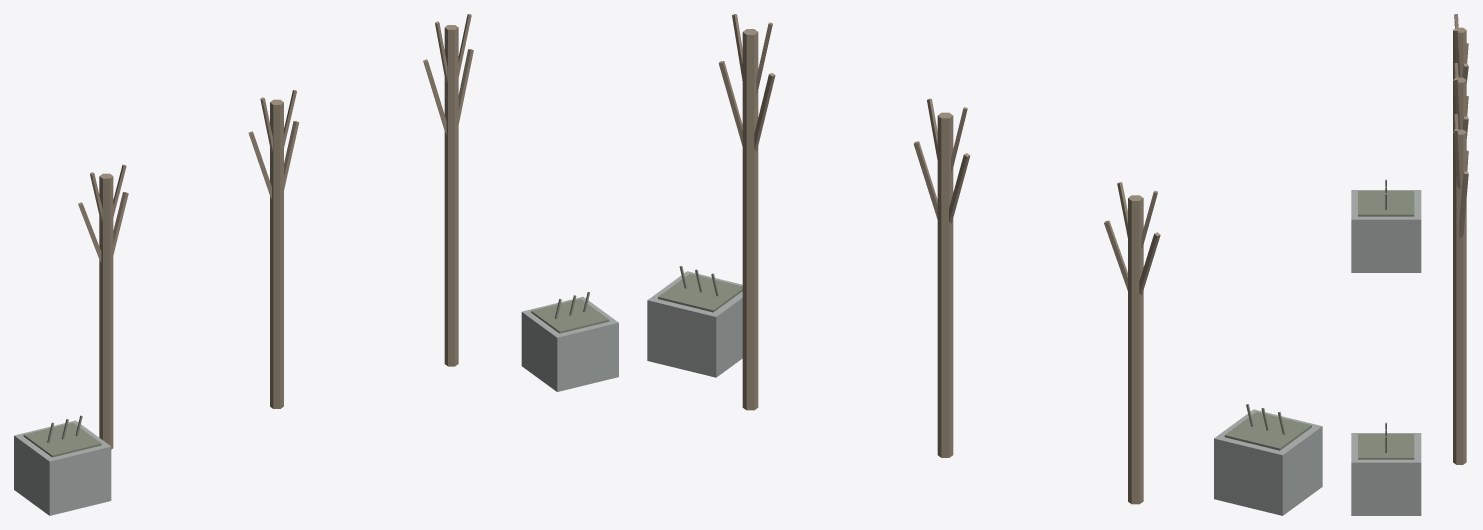
The model's file is planting.glb.
3 views of the same model, side by side, from view 1: azimuth 30°, elevation 25°; view 2: azimuth 150°, elevation 25°; view 3: azimuth 270°, elevation 25° (orthographic). The views are drawn at different scales.
Visible parts, largest first — view 1: Sanatorium_Planting_Sanatorium_Dull_Wood, Sanatorium_Planting_Sanatorium_Weathered_Concrete, Sanatorium_Planting_Sanatorium_Dry_Planting; view 2: Sanatorium_Planting_Sanatorium_Dull_Wood, Sanatorium_Planting_Sanatorium_Weathered_Concrete, Sanatorium_Planting_Sanatorium_Dry_Planting; view 3: Sanatorium_Planting_Sanatorium_Weathered_Concrete, Sanatorium_Planting_Sanatorium_Dull_Wood, Sanatorium_Planting_Sanatorium_Dry_Planting.
Part boxes in pixels (x1,y1,x2,y2): Sanatorium_Planting_Sanatorium_Dull_Wood: (78, 14, 473, 449); Sanatorium_Planting_Sanatorium_Weathered_Concrete: (14, 296, 618, 515); Sanatorium_Planting_Sanatorium_Dry_Planting: (23, 292, 609, 457); Sanatorium_Planting_Sanatorium_Dull_Wood: (718, 14, 1160, 504); Sanatorium_Planting_Sanatorium_Weathered_Concrete: (647, 271, 1322, 515); Sanatorium_Planting_Sanatorium_Dry_Planting: (658, 266, 1311, 450); Sanatorium_Planting_Sanatorium_Weathered_Concrete: (1351, 190, 1421, 515); Sanatorium_Planting_Sanatorium_Dull_Wood: (1453, 14, 1468, 464); Sanatorium_Planting_Sanatorium_Dry_Planting: (1358, 179, 1414, 459).
Size of the model in its own units: 7.01 by 4.08 by 1.28.
